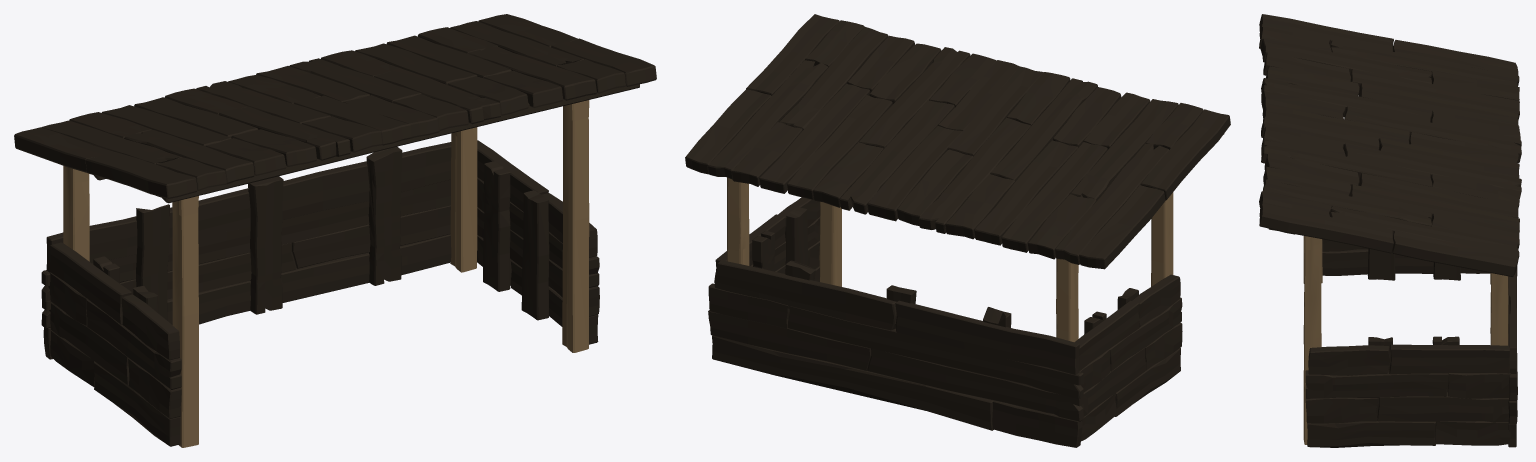
The model's file is LeanToo.fbx.
The picture shows the model from 3 angles, left to right: view 1: azimuth 30°, elevation 25°; view 2: azimuth 150°, elevation 25°; view 3: azimuth 270°, elevation 25°; orthographic projection. The views are drawn at different scales.
Visible parts, largest first — view 1: LeanToo; view 2: LeanToo; view 3: LeanToo.
Part boxes in pixels (x1,y1,x2,y2): LeanToo: [14, 14, 656, 447]; LeanToo: [685, 14, 1230, 447]; LeanToo: [1259, 14, 1521, 447].
Size of the model in its own units: 1026 by 582 by 556.
